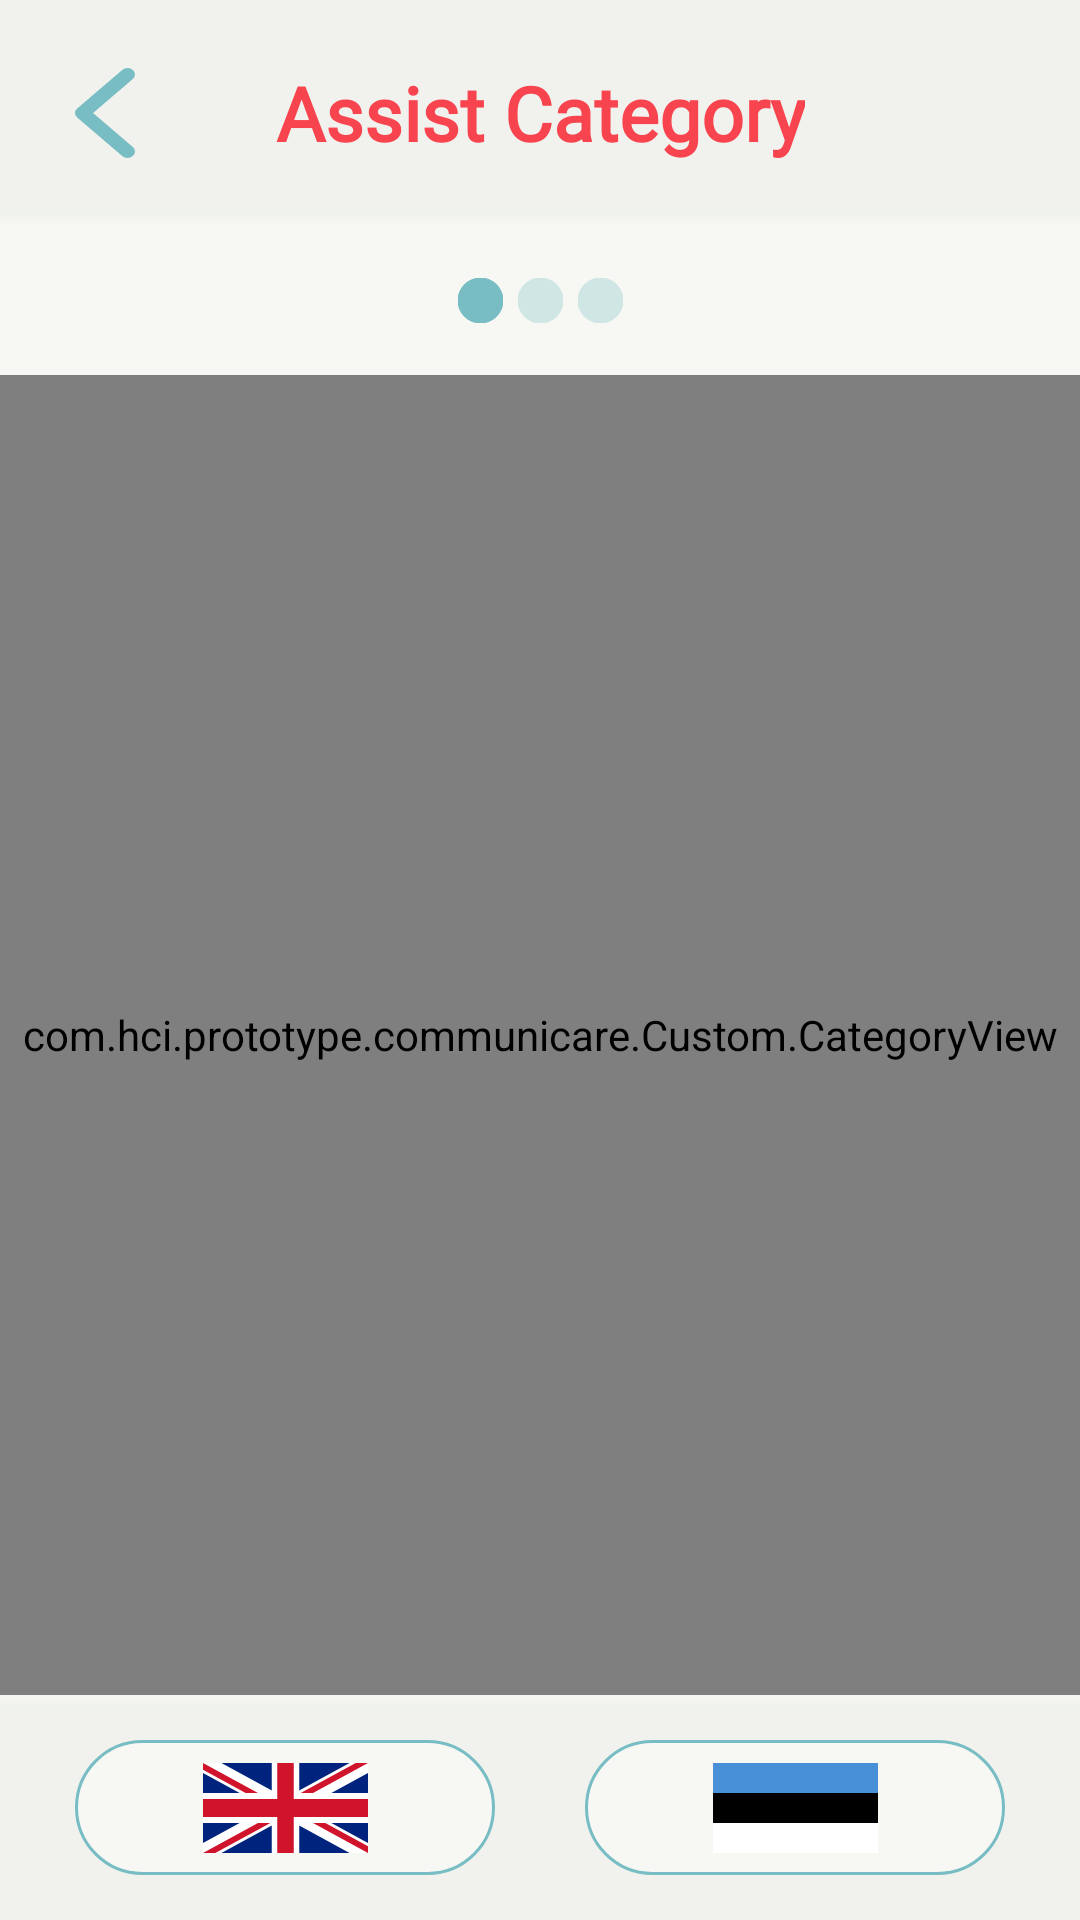

Icon click points for this 1080 × 1920 phone screenshot, format [x,y]:
arrow back: [105,113]
